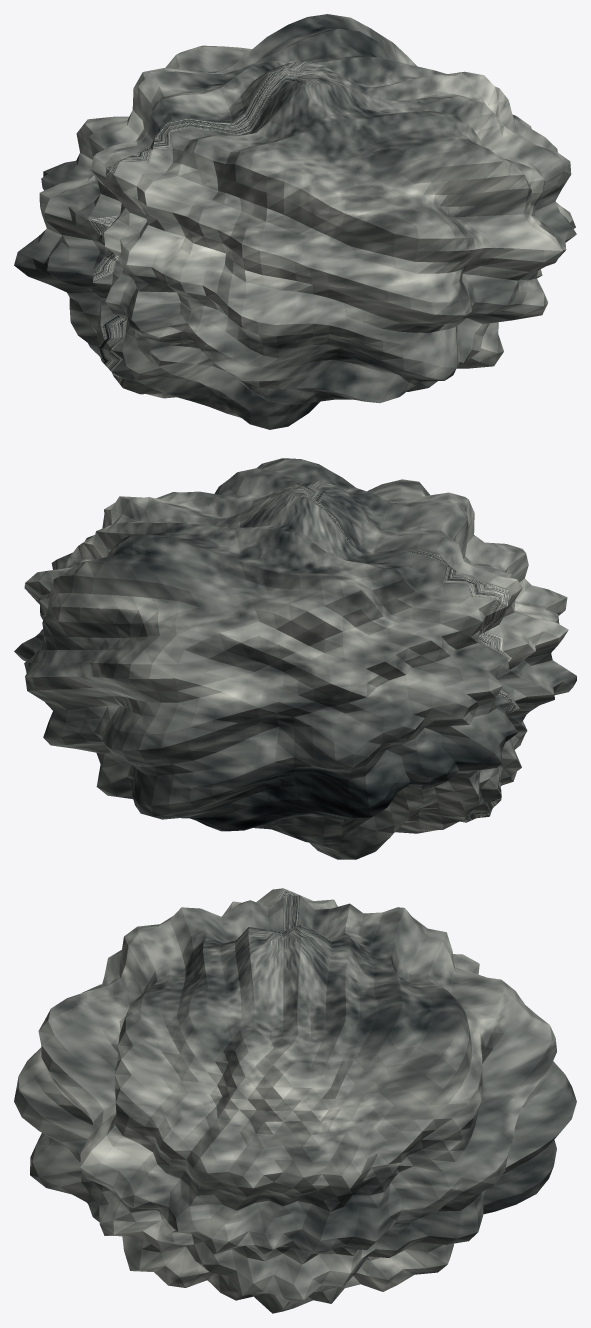
File: large_02.glb
The picture shows the model from 3 angles, top to bottom: view 1: azimuth 30°, elevation 25°; view 2: azimuth 150°, elevation 25°; view 3: azimuth 270°, elevation 25°; orthographic projection. The views are drawn at different scales.
Visible parts, largest first — view 1: rock; view 2: rock; view 3: rock.
Boxes of the visible parts, x1=… form: rock: x1=14, y1=14, x2=576, y2=429; rock: x1=14, y1=458, x2=576, y2=859; rock: x1=14, y1=888, x2=576, y2=1313.
Bounding box in the file's own units: 5.99 × 3.74 × 5.85.
Materials: 1 (1 with a texture image).
